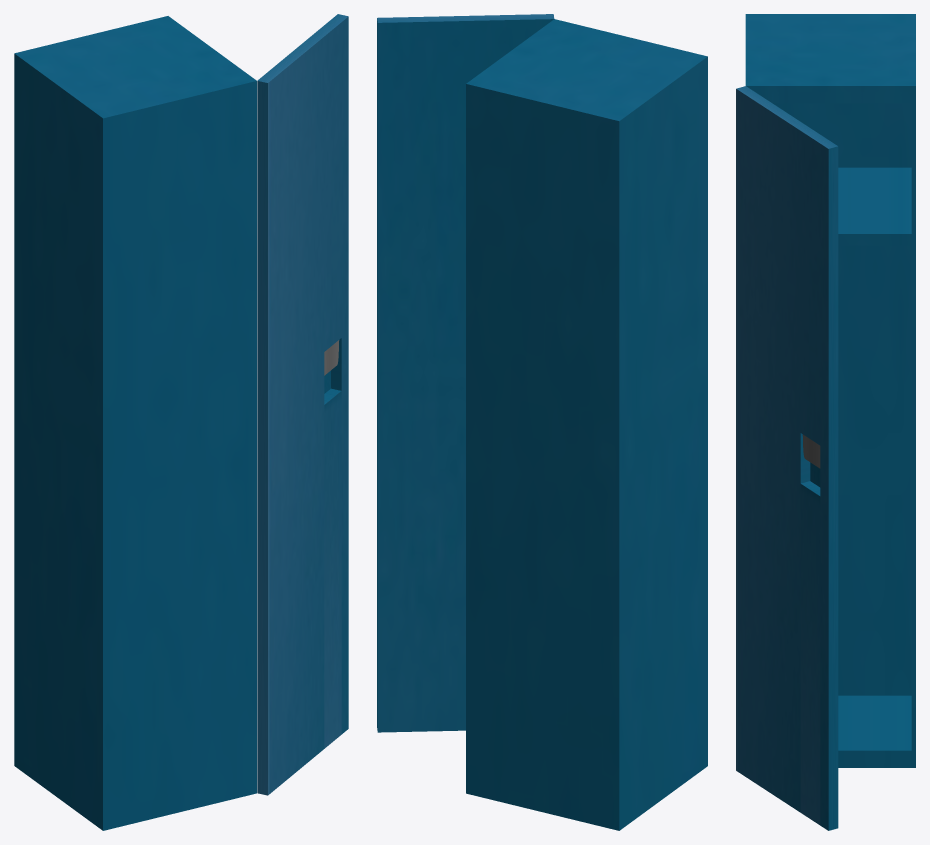
Rendered from LockerPrefab.fbx.
The picture shows the model from 3 angles, left to right: view 1: azimuth 30°, elevation 25°; view 2: azimuth 150°, elevation 25°; view 3: azimuth 270°, elevation 25°; orthographic projection. The views are drawn at different scales.
Parts seen in each view (by area): view 1: Locker - Body, Locker - Door; view 2: Locker - Body, Locker - Door; view 3: Locker - Door, Locker - Body.
Part boxes in pixels (box(x1,y1,x2,y2)): Locker - Body: box(14, 16, 256, 830); Locker - Door: box(257, 14, 348, 795); Locker - Body: box(466, 19, 707, 830); Locker - Door: box(377, 14, 554, 732); Locker - Door: box(736, 86, 838, 830); Locker - Body: box(745, 14, 915, 767).
Size of the model in its own units: 88.68 by 209 by 49.93.
